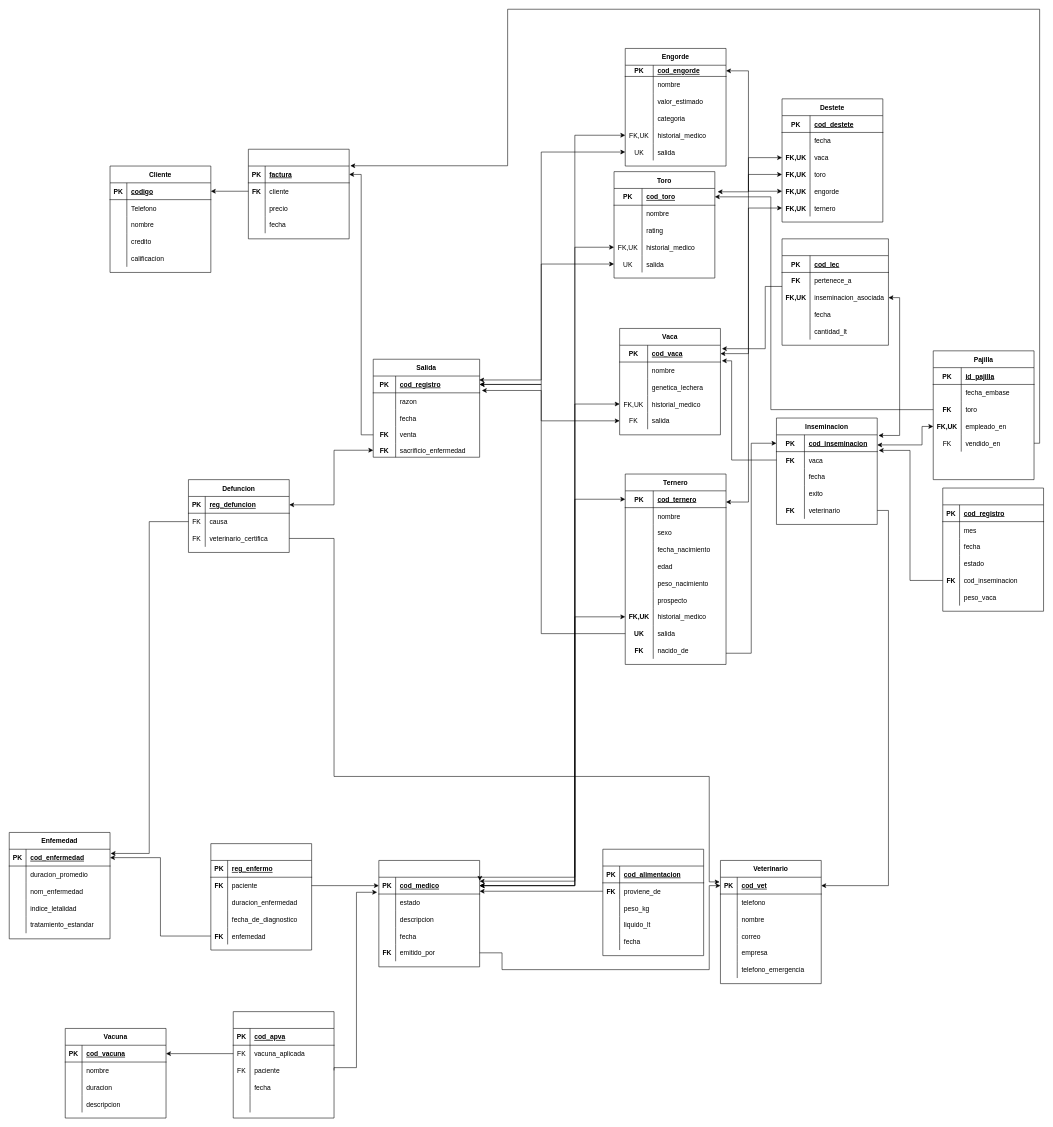
The diagram is 1053 pixels wide and 1127 high, and some of its shapes have lost their labels. The shapes that lost their labels are listed below. From the top down, each one's box as (x1, y1, x2, y2) in pixels, then its label:
(248, 149, 349, 239): Registro_venta
(781, 238, 888, 345): reg_lechero
(942, 487, 1044, 611): Estado_inseminacion
(210, 843, 312, 950): Estuvo_enfermo
(378, 860, 480, 967): Regristro_medico
(602, 849, 704, 956): reg_alimentacion
(233, 1011, 334, 1118): Aplicacion_vacuna
